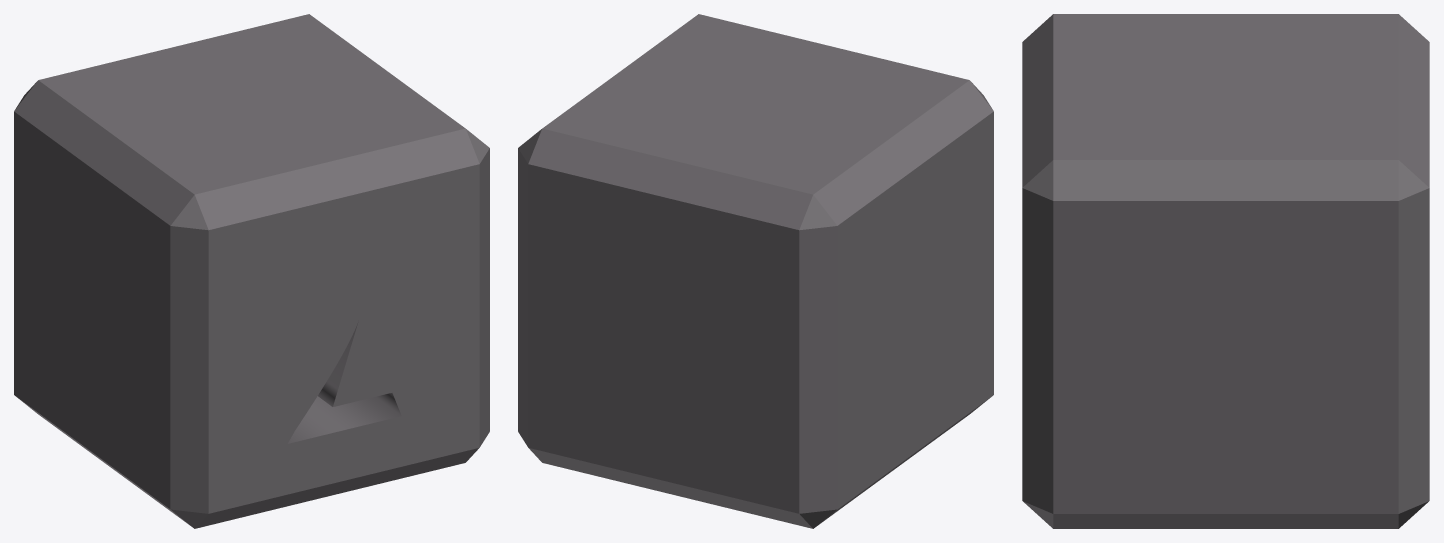
Rendered from Button2.obj.
The picture shows the model from 3 angles, left to right: view 1: azimuth 30°, elevation 25°; view 2: azimuth 150°, elevation 25°; view 3: azimuth 270°, elevation 25°; orthographic projection. The views are drawn at different scales.
Visible parts, largest first — view 1: Cube.003; view 2: Cube.003; view 3: Cube.003.
Part boxes in pixels (x1=…): Cube.003: x1=14, y1=14, x2=489, y2=528; Cube.003: x1=518, y1=14, x2=993, y2=528; Cube.003: x1=1022, y1=14, x2=1429, y2=528.
Size of the model in its own units: 0.156 by 0.156 by 0.156.
1 material, 1 textured.
